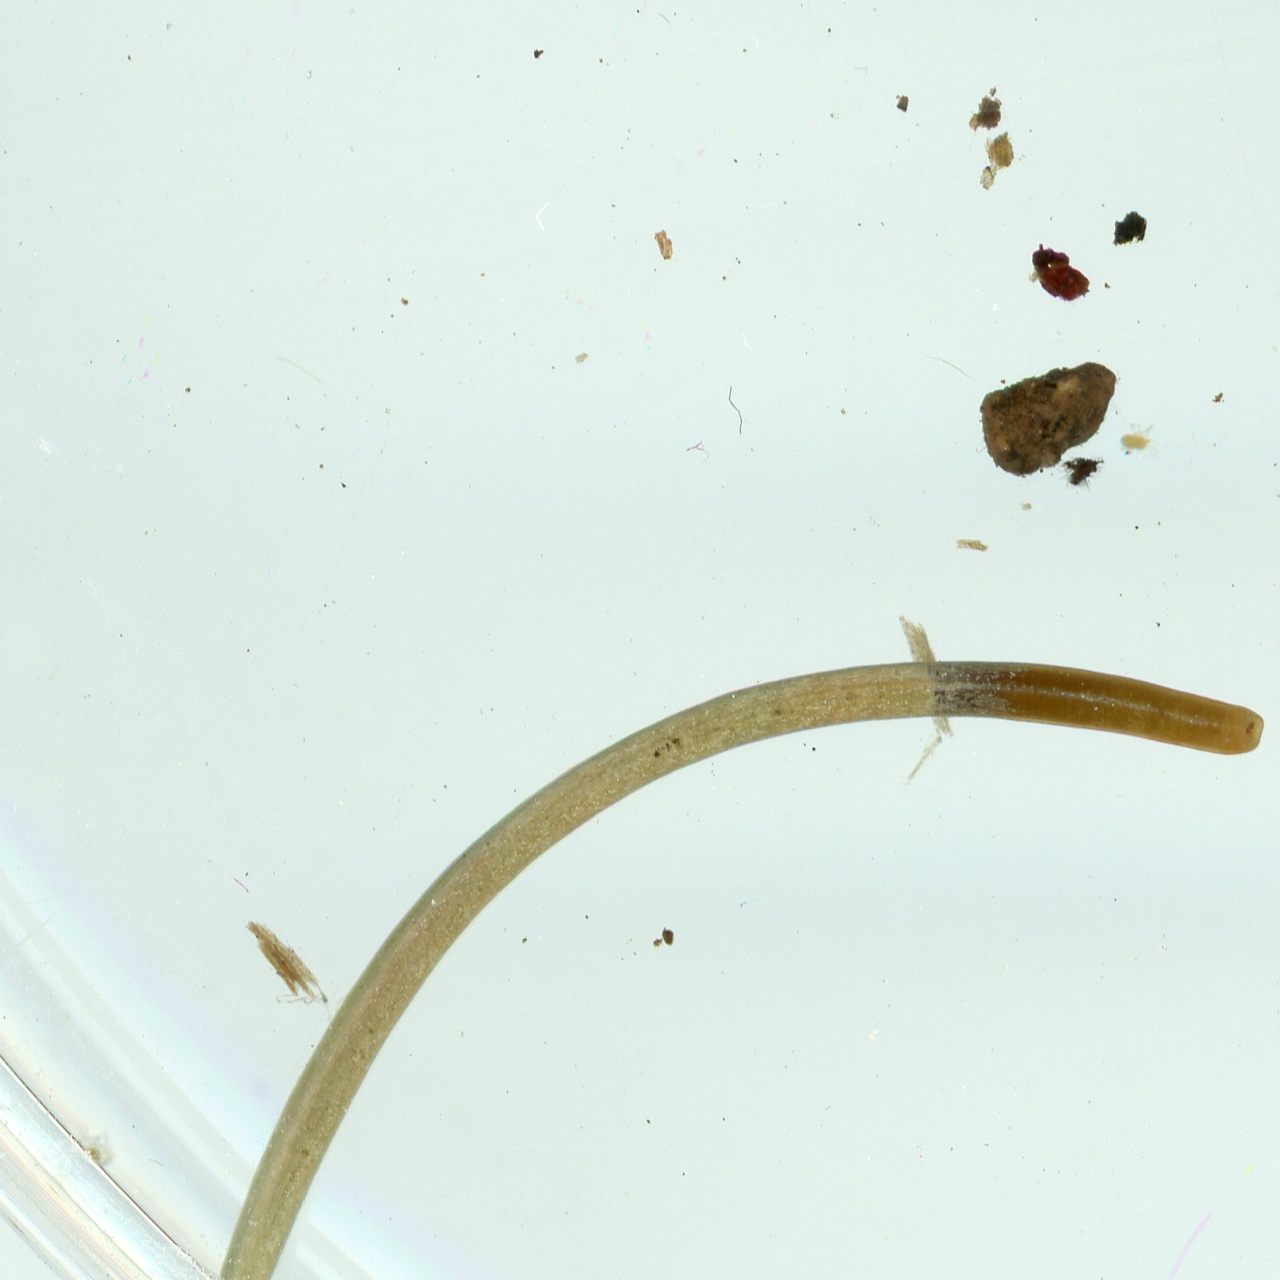arthropod: (1110, 403, 1227, 474)
